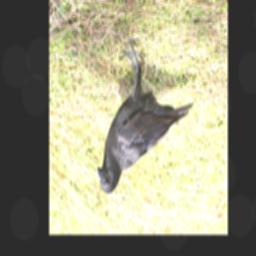Crow: (98, 36, 196, 195)
